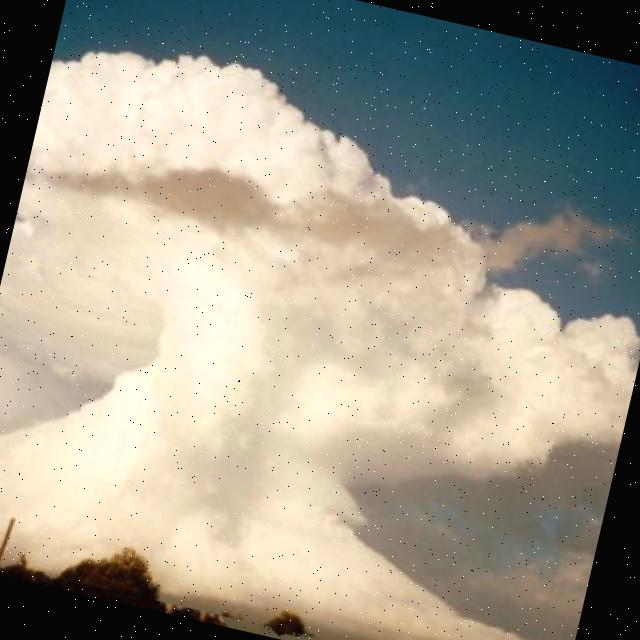Cb: (1, 17, 640, 588)
